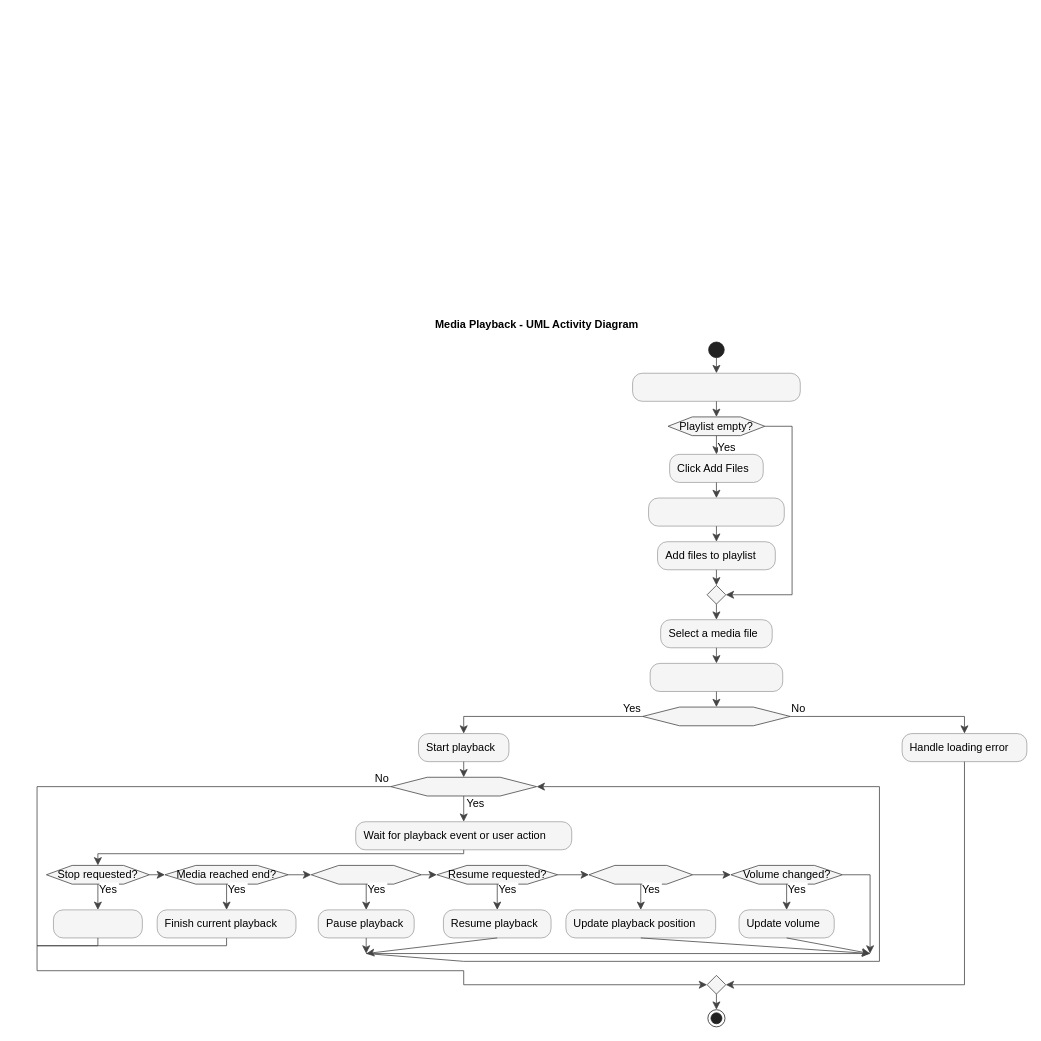
This 1041x1041 diagram has some shape labels left out. Here are the shapes that lost their labels. From the top down, the box of each, then its label:
(632, 373, 800, 401): Open MP3/MP4 Media Player
(648, 497, 784, 526): Select local media files
(650, 663, 783, 691): Load file using libmpv
(642, 706, 790, 726): File loaded successfully?
(390, 776, 537, 796): Playback session active?
(310, 865, 421, 884): Pause requested?
(588, 865, 693, 884): Seek requested?
(53, 909, 142, 938): Stop playback
